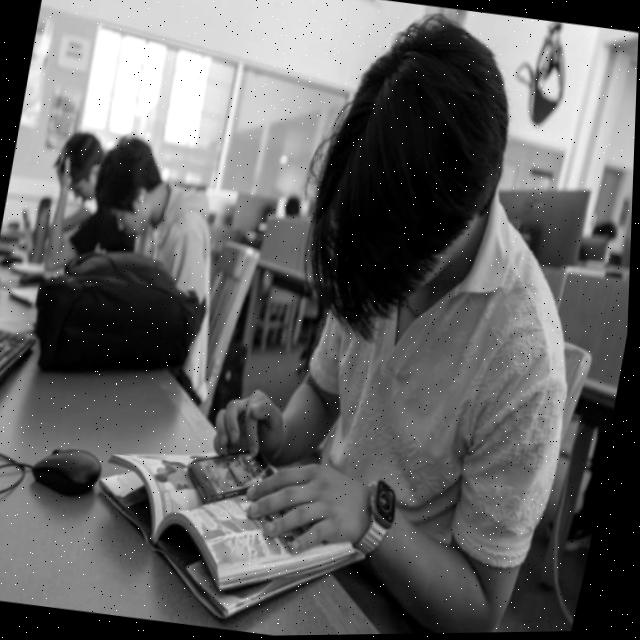phone: (182, 436, 288, 520)
